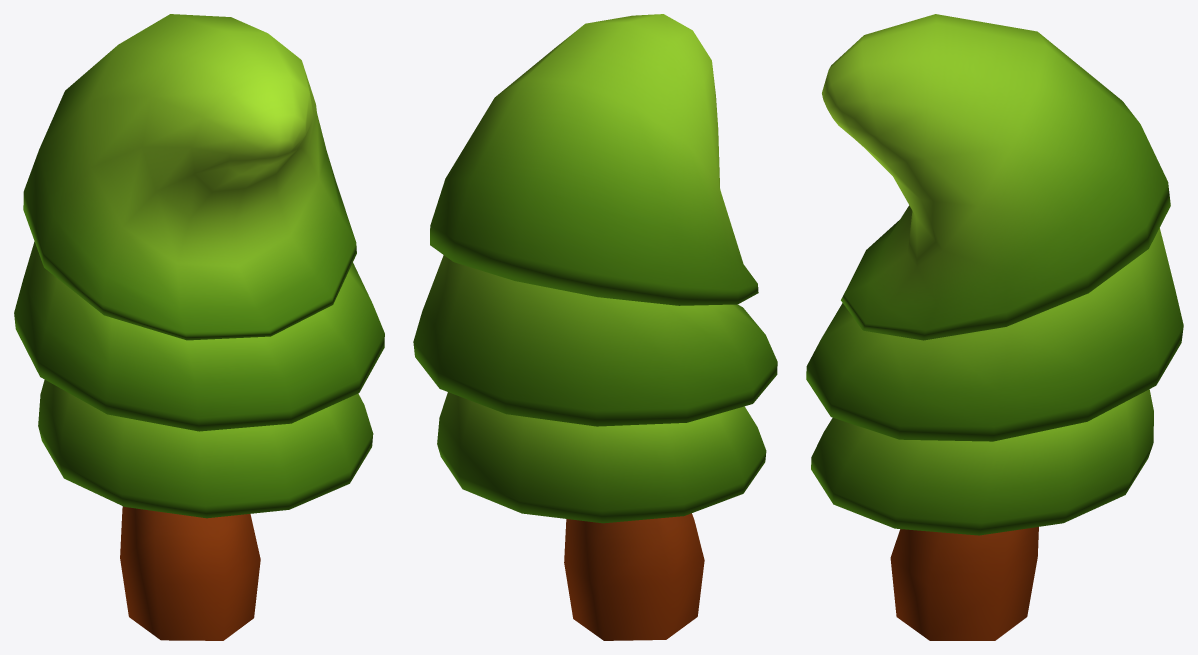
Rendered from treevars.fbx.
3 renders of one model, left to right at view 1: azimuth 30°, elevation 25°; view 2: azimuth 150°, elevation 25°; view 3: azimuth 270°, elevation 25°, orthographic. The views are drawn at different scales.
Visible parts, largest first — view 1: treevar5.003; view 2: treevar5.003; view 3: treevar5.003.
Boxes of the visible parts, x1,y1,x2,y2 form: treevar5.003: (14,14,384,640); treevar5.003: (413,14,777,640); treevar5.003: (806,14,1183,640).
Size of the model in its own units: 385 by 678 by 384.
